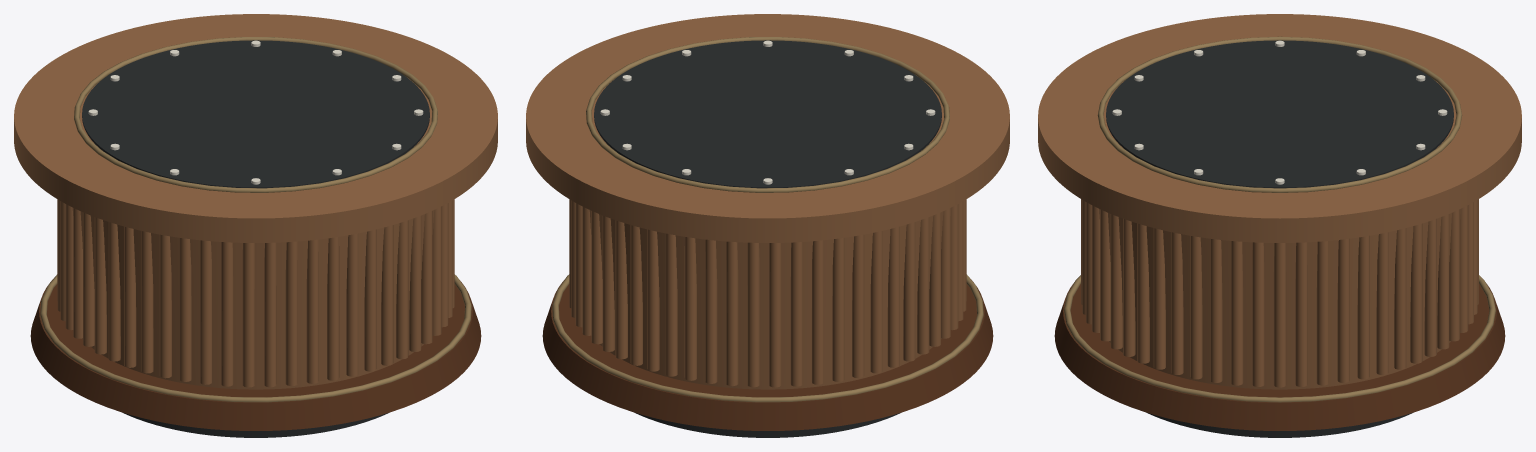
The model's file is hologram-podium.glb.
3 views of the same model, side by side, from view 1: azimuth 30°, elevation 25°; view 2: azimuth 150°, elevation 25°; view 3: azimuth 270°, elevation 25° (orthographic).
Visible parts, largest first — view 1: part::hologram-podium/rounded-circular-walnut-crown-001, part::hologram-podium/smoked-projection-well-001, part::hologram-podium/walnut-stepped-plinth-001, part::hologram-podium/walnut-drum-001, part::hologram-podium/inset-brass-aperture-001, part::hologram-podium/lower-brass-reveal-001, part::hologram-podium/rounded-vertical-walnut-flute-019, part::hologram-podium/rounded-vertical-walnut-flute-020, part::hologram-podium/rounded-vertical-walnut-flute-018, part::hologram-podium/rounded-vertical-walnut-flute-021, part::hologram-podium/rounded-vertical-walnut-flute-023, part::hologram-podium/rounded-vertical-walnut-flute-016 (+21 smaller); view 2: part::hologram-podium/rounded-circular-walnut-crown-001, part::hologram-podium/smoked-projection-well-001, part::hologram-podium/walnut-stepped-plinth-001, part::hologram-podium/walnut-drum-001, part::hologram-podium/inset-brass-aperture-001, part::hologram-podium/lower-brass-reveal-001, part::hologram-podium/rounded-vertical-walnut-flute-039, part::hologram-podium/rounded-vertical-walnut-flute-038, part::hologram-podium/rounded-vertical-walnut-flute-040, part::hologram-podium/rounded-vertical-walnut-flute-037, part::hologram-podium/rounded-vertical-walnut-flute-035, part::hologram-podium/rounded-vertical-walnut-flute-042 (+21 smaller); view 3: part::hologram-podium/rounded-circular-walnut-crown-001, part::hologram-podium/smoked-projection-well-001, part::hologram-podium/walnut-stepped-plinth-001, part::hologram-podium/walnut-drum-001, part::hologram-podium/inset-brass-aperture-001, part::hologram-podium/lower-brass-reveal-001, part::hologram-podium/rounded-vertical-walnut-flute-001, part::hologram-podium/rounded-vertical-walnut-flute-002, part::hologram-podium/rounded-vertical-walnut-flute-056, part::hologram-podium/rounded-vertical-walnut-flute-003, part::hologram-podium/rounded-vertical-walnut-flute-055, part::hologram-podium/rounded-vertical-walnut-flute-004 (+20 smaller).
Boxes of the visible parts, bbox=[...] form: part::hologram-podium/rounded-circular-walnut-crown-001: bbox=[14, 14, 497, 242]; part::hologram-podium/smoked-projection-well-001: bbox=[82, 40, 429, 188]; part::hologram-podium/walnut-stepped-plinth-001: bbox=[30, 277, 481, 430]; part::hologram-podium/walnut-drum-001: bbox=[72, 208, 434, 389]; part::hologram-podium/inset-brass-aperture-001: bbox=[74, 37, 437, 192]; part::hologram-podium/lower-brass-reveal-001: bbox=[40, 274, 471, 402]; part::hologram-podium/rounded-vertical-walnut-flute-019: bbox=[264, 242, 276, 387]; part::hologram-podium/rounded-vertical-walnut-flute-020: bbox=[242, 243, 254, 387]; part::hologram-podium/rounded-vertical-walnut-flute-018: bbox=[285, 241, 297, 386]; part::hologram-podium/rounded-vertical-walnut-flute-021: bbox=[221, 242, 233, 386]; part::hologram-podium/rounded-vertical-walnut-flute-023: bbox=[179, 238, 191, 381]; part::hologram-podium/rounded-vertical-walnut-flute-016: bbox=[327, 237, 339, 380]; part::hologram-podium/rounded-circular-walnut-crown-001: bbox=[526, 14, 1009, 242]; part::hologram-podium/smoked-projection-well-001: bbox=[594, 40, 941, 188]; part::hologram-podium/walnut-stepped-plinth-001: bbox=[542, 277, 993, 430]; part::hologram-podium/walnut-drum-001: bbox=[589, 208, 951, 389]; part::hologram-podium/inset-brass-aperture-001: bbox=[586, 37, 949, 192]; part::hologram-podium/lower-brass-reveal-001: bbox=[552, 274, 983, 402]; part::hologram-podium/rounded-vertical-walnut-flute-039: bbox=[747, 242, 759, 387]; part::hologram-podium/rounded-vertical-walnut-flute-038: bbox=[769, 243, 781, 387]; part::hologram-podium/rounded-vertical-walnut-flute-040: bbox=[726, 241, 738, 386]; part::hologram-podium/rounded-vertical-walnut-flute-037: bbox=[790, 242, 802, 386]; part::hologram-podium/rounded-vertical-walnut-flute-035: bbox=[832, 238, 844, 381]; part::hologram-podium/rounded-vertical-walnut-flute-042: bbox=[684, 237, 696, 380]; part::hologram-podium/rounded-circular-walnut-crown-001: bbox=[1038, 14, 1521, 242]; part::hologram-podium/smoked-projection-well-001: bbox=[1106, 40, 1453, 188]; part::hologram-podium/walnut-stepped-plinth-001: bbox=[1054, 283, 1505, 430]; part::hologram-podium/walnut-drum-001: bbox=[1099, 209, 1460, 389]; part::hologram-podium/inset-brass-aperture-001: bbox=[1097, 36, 1462, 192]; part::hologram-podium/lower-brass-reveal-001: bbox=[1064, 275, 1495, 402]; part::hologram-podium/rounded-vertical-walnut-flute-001: bbox=[1273, 243, 1286, 387]; part::hologram-podium/rounded-vertical-walnut-flute-002: bbox=[1252, 242, 1264, 386]; part::hologram-podium/rounded-vertical-walnut-flute-056: bbox=[1295, 242, 1307, 386]; part::hologram-podium/rounded-vertical-walnut-flute-003: bbox=[1231, 241, 1243, 385]; part::hologram-podium/rounded-vertical-walnut-flute-055: bbox=[1316, 241, 1328, 385]; part::hologram-podium/rounded-vertical-walnut-flute-004: bbox=[1210, 238, 1222, 382].
Bounding box in the file's own units: 1.16 × 0.6635 × 1.16.
